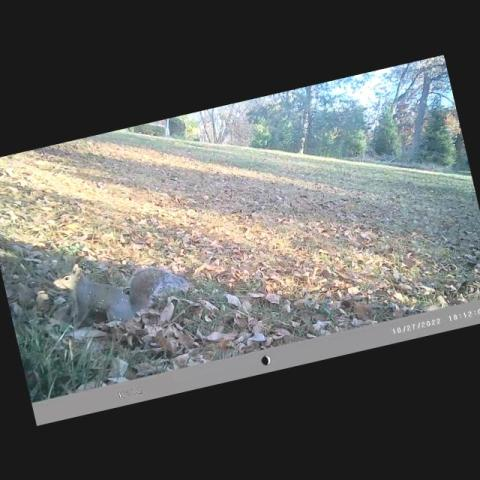small_animal: (52, 263, 180, 328)
